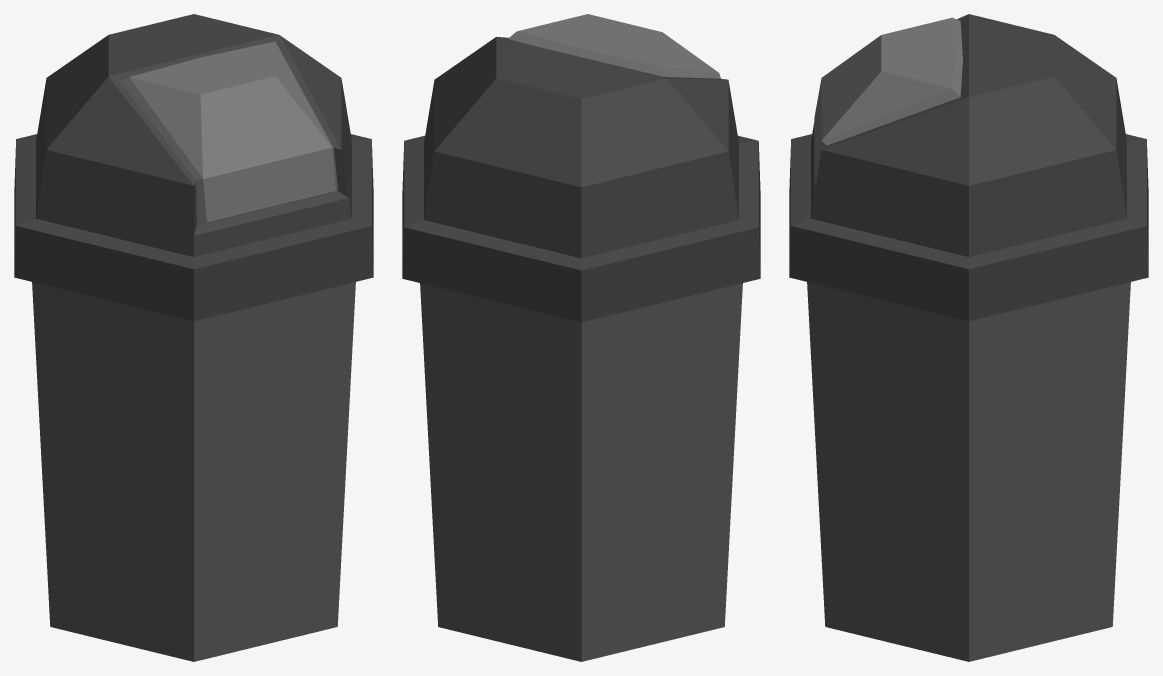
File: SM_Prop_RubbishBin_Small_01.obj
3 renders of one model, left to right at view 1: azimuth 30°, elevation 25°; view 2: azimuth 150°, elevation 25°; view 3: azimuth 270°, elevation 25°, orthographic.
Visible parts, largest first — view 1: SM_Prop_RubbishBin_Small_01_0; view 2: SM_Prop_RubbishBin_Small_01_0; view 3: SM_Prop_RubbishBin_Small_01_0.
Boxes of the visible parts, x1,y1,x2,y2 form: SM_Prop_RubbishBin_Small_01_0: (14,14,373,661); SM_Prop_RubbishBin_Small_01_0: (402,14,760,661); SM_Prop_RubbishBin_Small_01_0: (789,14,1148,661).
Bounding box in the file's own units: 0.389 × 0.5577 × 0.3368.
Materials: 1 (1 with a texture image).
